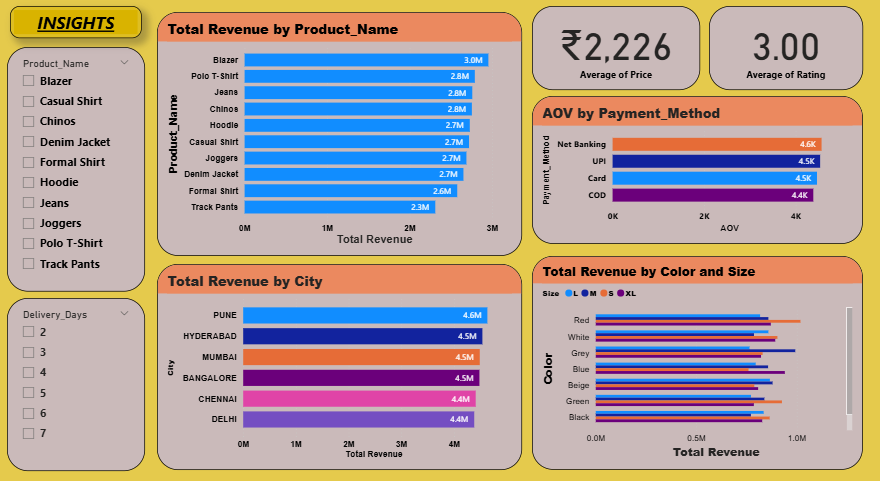

What the dashboard file says about the page in this screenshot:
{"tool":"powerbi","page":{"name":"dashboard","canvas":[1280,720],"ordinal":2},"visuals":[{"type":"clusteredBarChart","fields":{"Category":["cleaned.Product_Name"],"Y":["cleaned.Total Revenue"]},"box":[235.5,28.5,520.8,348.2],"z":1000},{"type":"clusteredBarChart","fields":{"Category":["cleaned.City"],"Y":["cleaned.Total Revenue"]},"box":[235.5,388.1,520.8,294],"z":2000},{"type":"clusteredBarChart","fields":{"Category":["cleaned.Payment_Method"],"Y":["cleaned.AOV"]},"box":[770.6,148.4,472.3,211.2],"z":3000},{"type":"clusteredBarChart","fields":{"Series":["cleaned.Size"],"Category":["cleaned.Color"],"Y":["cleaned.Total Revenue"]},"box":[770.6,376.7,472.3,305.4],"z":4000},{"type":"card","fields":{"Values":["Avg(cleaned.Price)"]},"box":[770.6,20,239.7,119.9],"z":5000},{"type":"slicer","fields":{"Values":["cleaned.Delivery_Days"]},"box":[21.5,436.2,196.6,246.7],"z":6000},{"type":"card","fields":{"Values":["Avg(cleaned.Rating)"]},"box":[1023.1,20,219.8,119.9],"z":7000},{"type":"slicer","fields":{"Values":["cleaned.Product_Name"]},"box":[21.5,78.7,196.6,348.6],"z":8000},{"type":"shape","box":[25,19.7,187.7,46.5],"z":8001}]}

Visuals, with their boxes in screenshot pixels (x1, y1, x2, y2), scaled from the page's 1280x720 canvas onto the 880x481 screenshot:
clusteredBarChart - cleaned.Product_Name x cleaned.Total Revenue: x1=162 y1=19 x2=520 y2=252
clusteredBarChart - cleaned.City x cleaned.Total Revenue: x1=162 y1=259 x2=520 y2=456
clusteredBarChart - cleaned.Payment_Method x cleaned.AOV: x1=530 y1=99 x2=854 y2=240
clusteredBarChart - cleaned.Size x cleaned.Color: x1=530 y1=252 x2=854 y2=456
card - Avg(cleaned.Price): x1=530 y1=13 x2=695 y2=93
slicer - cleaned.Delivery_Days: x1=15 y1=291 x2=150 y2=456
card - Avg(cleaned.Rating): x1=703 y1=13 x2=854 y2=93
slicer - cleaned.Product_Name: x1=15 y1=53 x2=150 y2=285
shape: x1=17 y1=13 x2=146 y2=44
